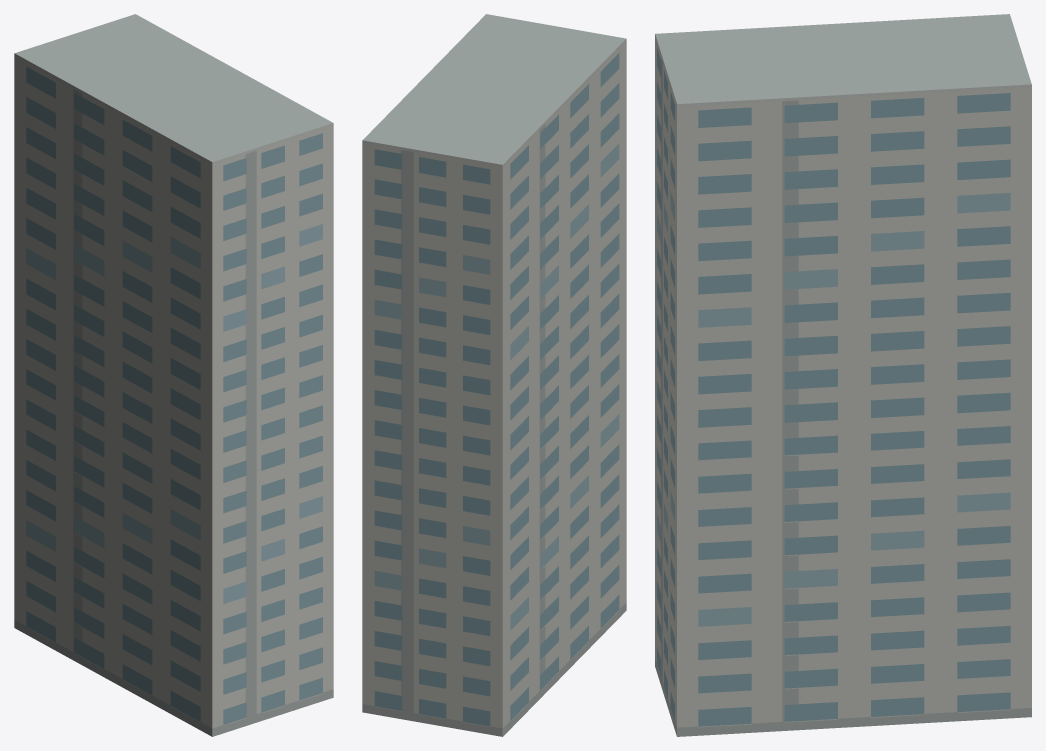
Rendered from residential-4a908010-55fc-42d8-b1fc-6abee290ac62.glb.
3 renders of one model, left to right at view 1: azimuth 30°, elevation 25°; view 2: azimuth 150°, elevation 25°; view 3: azimuth 270°, elevation 25°, orthographic. The views are drawn at different scales.
Parts seen in each view (by area): view 1: residential-4a908010-55fc-42d8-b1fc-6abee290ac62.tmp; view 2: residential-4a908010-55fc-42d8-b1fc-6abee290ac62.tmp; view 3: residential-4a908010-55fc-42d8-b1fc-6abee290ac62.tmp.
Boxes of the visible parts, x1,y1,x2,y2 form: residential-4a908010-55fc-42d8-b1fc-6abee290ac62.tmp: [14, 14, 333, 736]; residential-4a908010-55fc-42d8-b1fc-6abee290ac62.tmp: [362, 14, 626, 736]; residential-4a908010-55fc-42d8-b1fc-6abee290ac62.tmp: [655, 14, 1031, 736].
Bounding box in the file's own units: 15.6 × 51 × 27.53.
